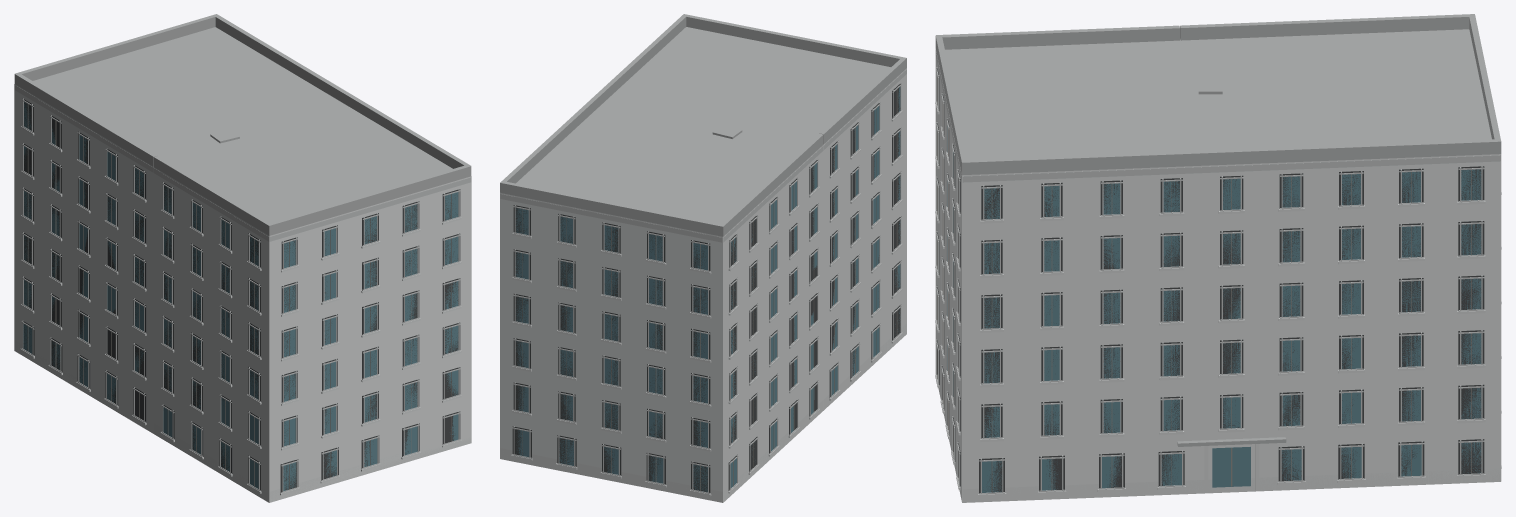
File: cop_escritorio_clinica_01__way_586695365.fbx
3 views of the same model, side by side, from view 1: azimuth 30°, elevation 25°; view 2: azimuth 150°, elevation 25°; view 3: azimuth 270°, elevation 25° (orthographic). The views are drawn at different scales.
Visible parts, largest first — view 1: cop_escritorio_clinica_01__way_586695365_wall, cop_escritorio_clinica_01__way_586695365_roof, cop_escritorio_clinica_01__way_586695365_glass, cop_escritorio_clinica_01__way_586695365_shadow, cop_escritorio_clinica_01__way_586695365_trim, cop_escritorio_clinica_01__way_586695365_stone, cop_escritorio_clinica_01__way_586695365_metal; view 2: cop_escritorio_clinica_01__way_586695365_wall, cop_escritorio_clinica_01__way_586695365_roof, cop_escritorio_clinica_01__way_586695365_shadow, cop_escritorio_clinica_01__way_586695365_glass, cop_escritorio_clinica_01__way_586695365_trim, cop_escritorio_clinica_01__way_586695365_stone, cop_escritorio_clinica_01__way_586695365_metal; view 3: cop_escritorio_clinica_01__way_586695365_wall, cop_escritorio_clinica_01__way_586695365_roof, cop_escritorio_clinica_01__way_586695365_glass, cop_escritorio_clinica_01__way_586695365_shadow, cop_escritorio_clinica_01__way_586695365_trim, cop_escritorio_clinica_01__way_586695365_stone, cop_escritorio_clinica_01__way_586695365_metal.
Boxes of the visible parts, x1,y1,x2,y2 form: cop_escritorio_clinica_01__way_586695365_wall: [14, 84, 471, 502]; cop_escritorio_clinica_01__way_586695365_roof: [14, 14, 471, 235]; cop_escritorio_clinica_01__way_586695365_glass: [23, 102, 458, 491]; cop_escritorio_clinica_01__way_586695365_shadow: [22, 98, 460, 492]; cop_escritorio_clinica_01__way_586695365_trim: [14, 85, 471, 492]; cop_escritorio_clinica_01__way_586695365_stone: [14, 126, 471, 502]; cop_escritorio_clinica_01__way_586695365_metal: [27, 104, 451, 489]; cop_escritorio_clinica_01__way_586695365_wall: [500, 68, 906, 502]; cop_escritorio_clinica_01__way_586695365_roof: [500, 14, 906, 236]; cop_escritorio_clinica_01__way_586695365_shadow: [512, 84, 901, 492]; cop_escritorio_clinica_01__way_586695365_glass: [515, 87, 900, 492]; cop_escritorio_clinica_01__way_586695365_trim: [500, 69, 906, 493]; cop_escritorio_clinica_01__way_586695365_stone: [500, 110, 906, 502]; cop_escritorio_clinica_01__way_586695365_metal: [522, 89, 897, 491]; cop_escritorio_clinica_01__way_586695365_wall: [935, 48, 1501, 502]; cop_escritorio_clinica_01__way_586695365_roof: [935, 14, 1501, 446]; cop_escritorio_clinica_01__way_586695365_glass: [947, 126, 1481, 492]; cop_escritorio_clinica_01__way_586695365_shadow: [937, 68, 1484, 493]; cop_escritorio_clinica_01__way_586695365_trim: [935, 49, 1500, 494]; cop_escritorio_clinica_01__way_586695365_stone: [935, 101, 1501, 502]; cop_escritorio_clinica_01__way_586695365_metal: [937, 76, 1471, 492].
Size of the model in its own units: 1756 by 1869 by 2819.
